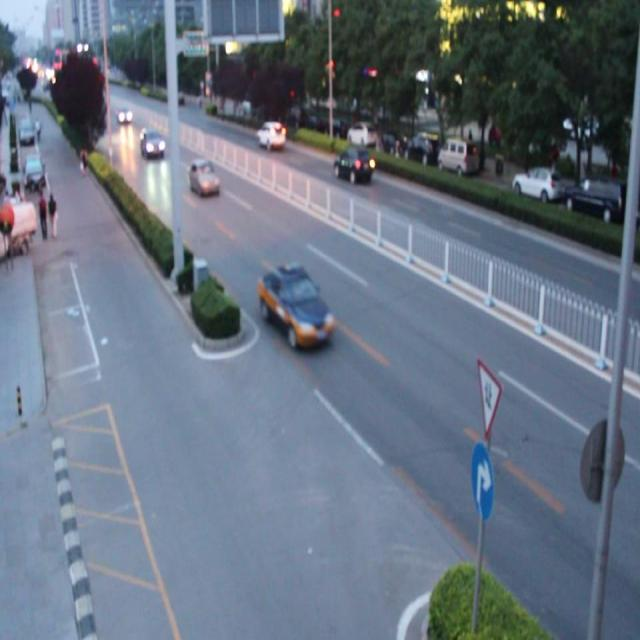car: (258, 262, 334, 353), (333, 146, 373, 186), (187, 160, 219, 196), (255, 118, 285, 149), (140, 127, 166, 162)
